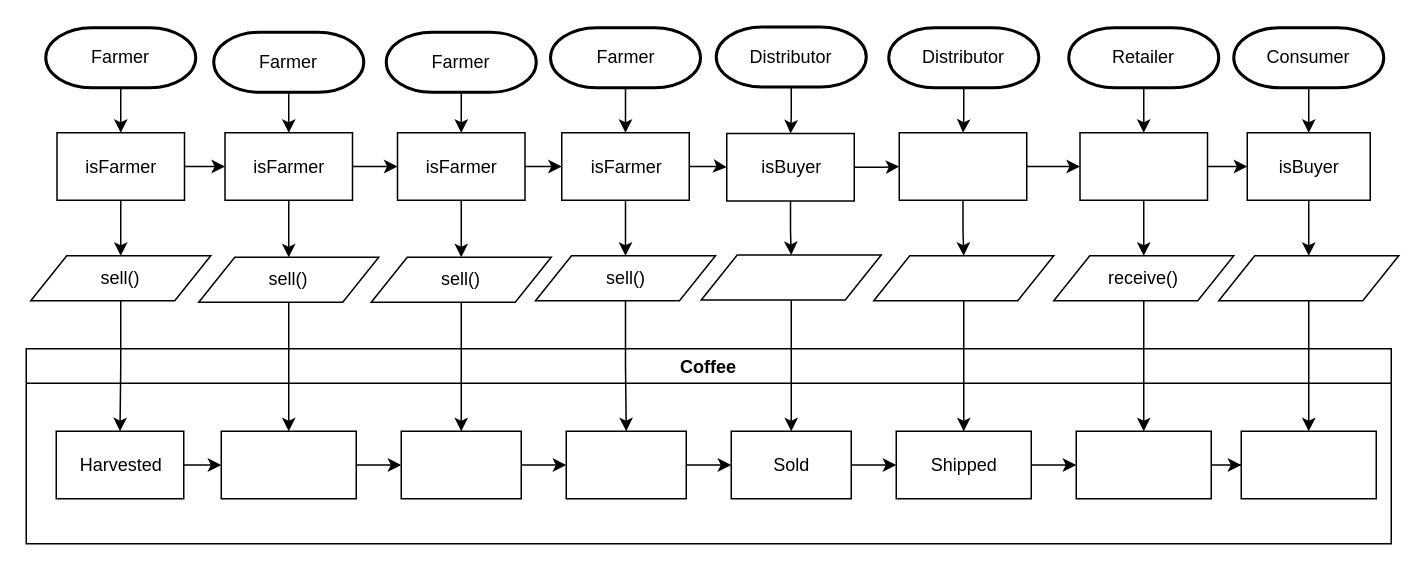
Image size: 1425x570. Some labels were removed from this diagram. The shapes that lost their labels are listed below. From the top down, each one's centre as x and y in pixels, then its label:
At point 962,165: "isShipper".
At point 1143,165: "isRetailer".
At point 790,277: "buy()".
At point 963,277: "ship()".
At point 1308,277: "purchase()".
At point 288,464: "Processed".
At point 460,464: "Packed".
At point 625,464: "For Sale".
At point 1143,464: "Received".
At point 1308,464: "Purchased".
